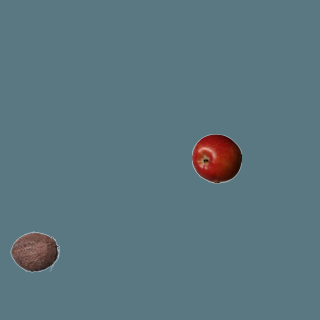Apple Braeburn: (191, 133, 241, 183)
Cocos: (9, 226, 59, 276)
